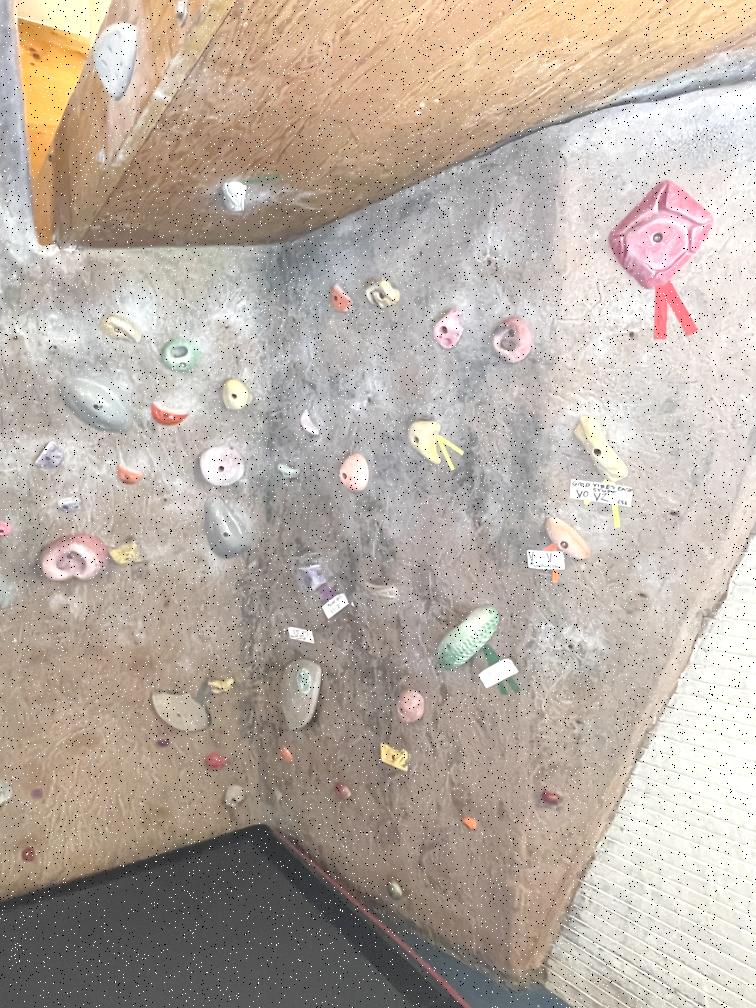Crimp: (146, 395, 198, 431), (27, 436, 71, 474), (327, 277, 360, 317), (50, 492, 92, 516), (116, 463, 148, 494)
Edges: (434, 602, 500, 675), (276, 657, 326, 734), (151, 691, 213, 734)
Foothold: (541, 785, 569, 810), (330, 778, 354, 804), (271, 744, 295, 764), (461, 813, 481, 833), (20, 846, 37, 866), (272, 786, 286, 804)
Hand-holds: (99, 318, 147, 344), (384, 877, 405, 904)
Jug: (90, 20, 138, 104), (194, 445, 248, 488), (429, 303, 472, 356), (405, 412, 442, 472), (360, 275, 407, 316), (219, 376, 255, 417), (274, 457, 304, 485), (203, 674, 238, 698), (217, 784, 251, 807)
Pinch: (571, 416, 630, 479), (542, 515, 594, 558), (290, 561, 340, 590), (293, 403, 325, 443), (220, 179, 250, 219), (111, 537, 142, 568), (358, 581, 400, 599)
Pocket: (602, 182, 724, 290), (36, 532, 109, 581), (488, 316, 538, 367), (165, 334, 199, 374)
Sloper: (58, 370, 137, 433), (202, 494, 250, 560), (333, 451, 377, 502), (373, 739, 414, 776), (396, 684, 427, 726), (200, 746, 234, 772)
